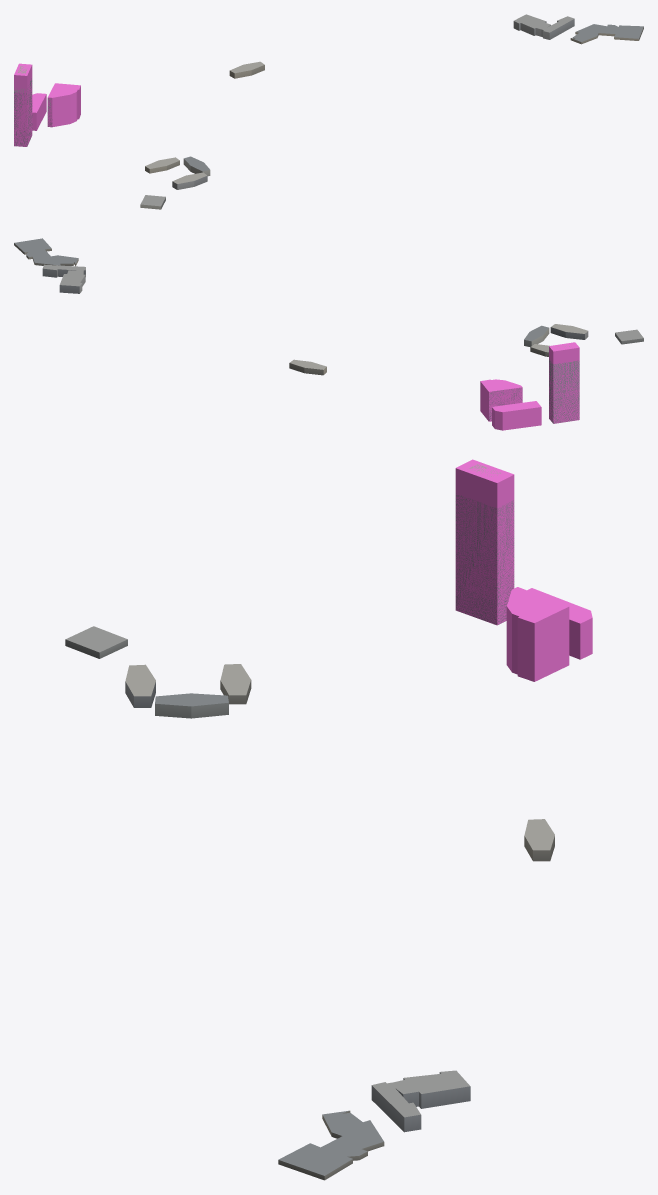
Rendered from bld_6_1.fbx.
3 renders of one model, top to bottom at view 1: azimuth 30°, elevation 25°; view 2: azimuth 150°, elevation 25°; view 3: azimuth 270°, elevation 25°, orthographic. The views are drawn at different scales.
Parts seen in each view (by area): view 1: bld_6_1_LOD0, bld_6_1_COL; view 2: bld_6_1_LOD0, bld_6_1_COL; view 3: bld_6_1_LOD0, bld_6_1_COL.
Part boxes in pixels (x1,y1,x2,y2): bld_6_1_LOD0: (14, 14, 643, 209); bld_6_1_COL: (14, 63, 80, 146); bld_6_1_LOD0: (14, 238, 643, 423); bld_6_1_COL: (480, 342, 579, 430); bld_6_1_LOD0: (65, 464, 554, 1180); bld_6_1_COL: (455, 459, 592, 681).
Size of what is drawn, in the model's own units: 1644 by 189 by 633.
